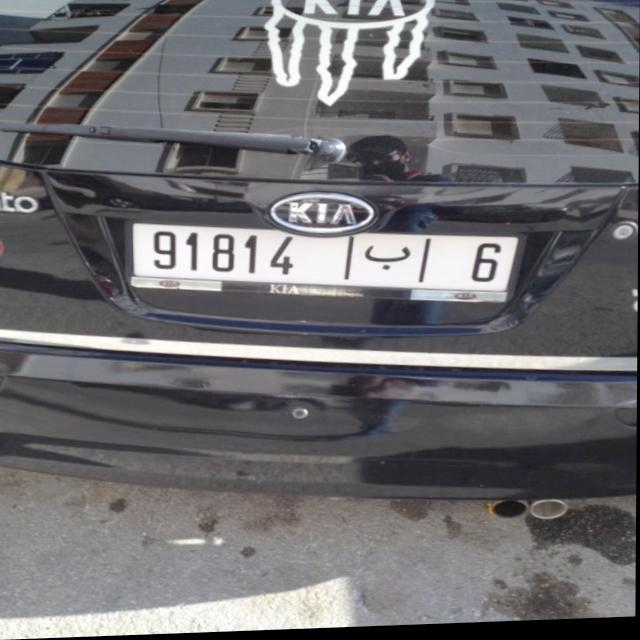License-Plate: (132, 224, 518, 296)
